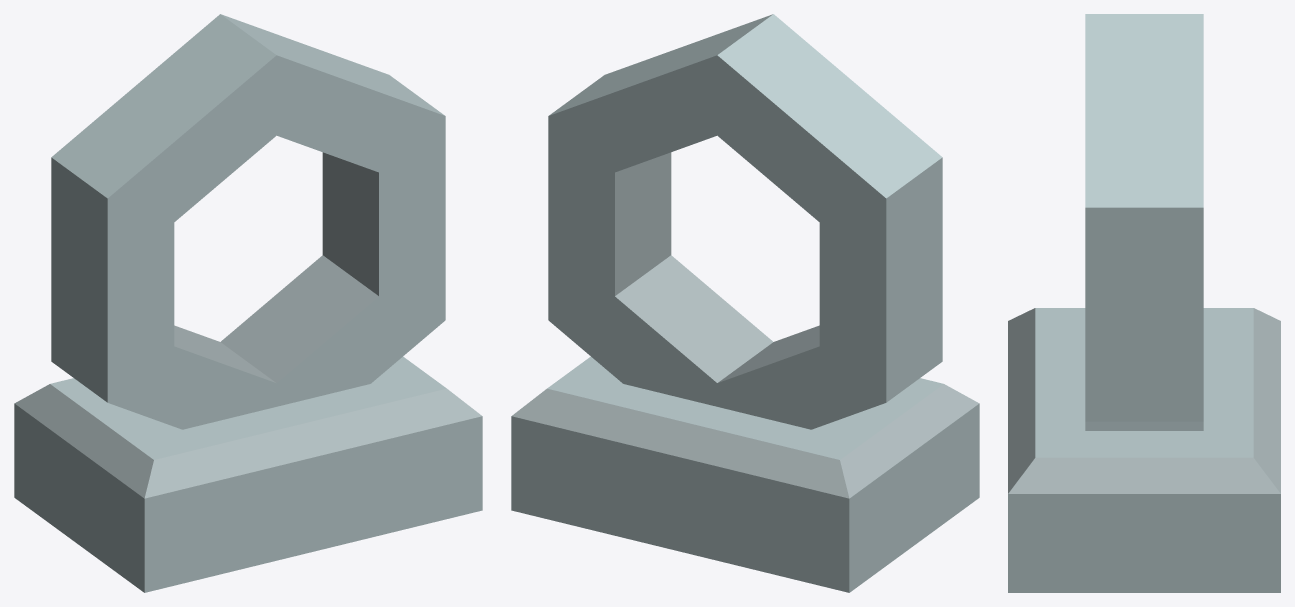
Rendered from statue_ring.glb.
3 views of the same model, side by side, from view 1: azimuth 30°, elevation 25°; view 2: azimuth 150°, elevation 25°; view 3: azimuth 270°, elevation 25° (orthographic). The views are drawn at different scales.
Visible parts, largest first — view 1: statue_ring; view 2: statue_ring; view 3: statue_ring.
Part boxes in pixels (bbox=[...]): statue_ring: bbox=[14, 14, 482, 592]; statue_ring: bbox=[511, 14, 979, 592]; statue_ring: bbox=[1008, 14, 1280, 592].
Bounding box in the file's own units: 0.6 × 0.7964 × 0.4.
